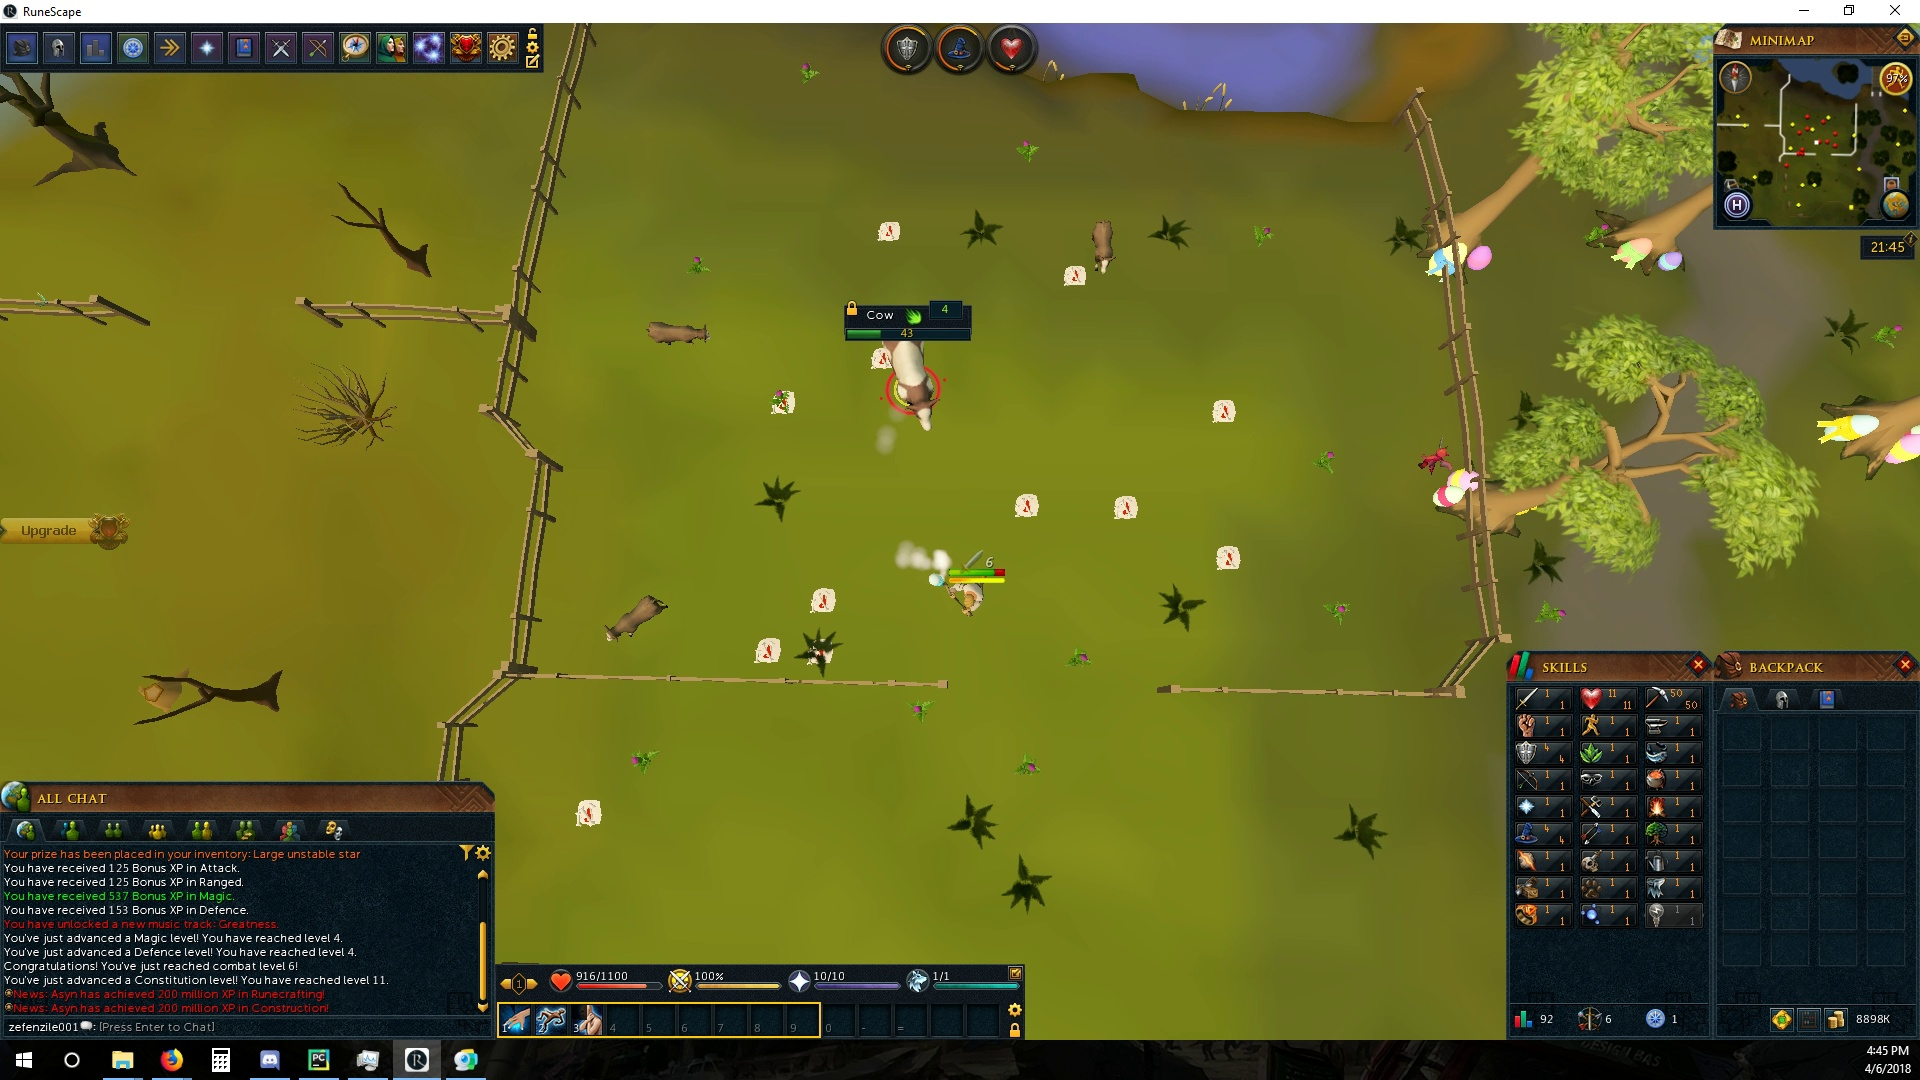calf: (605, 592, 671, 645), (1084, 218, 1120, 276), (647, 319, 709, 345)
cow: (877, 340, 953, 436)
cow_drop: (748, 632, 786, 665), (804, 640, 839, 669), (571, 796, 607, 824), (806, 582, 837, 612), (1011, 491, 1042, 520), (1110, 491, 1139, 521), (1207, 397, 1236, 426), (1212, 545, 1244, 571), (766, 386, 796, 413), (874, 218, 905, 243), (1063, 262, 1091, 286)
